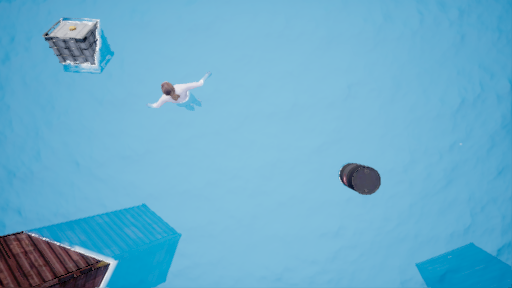person: (147, 74, 220, 116)
